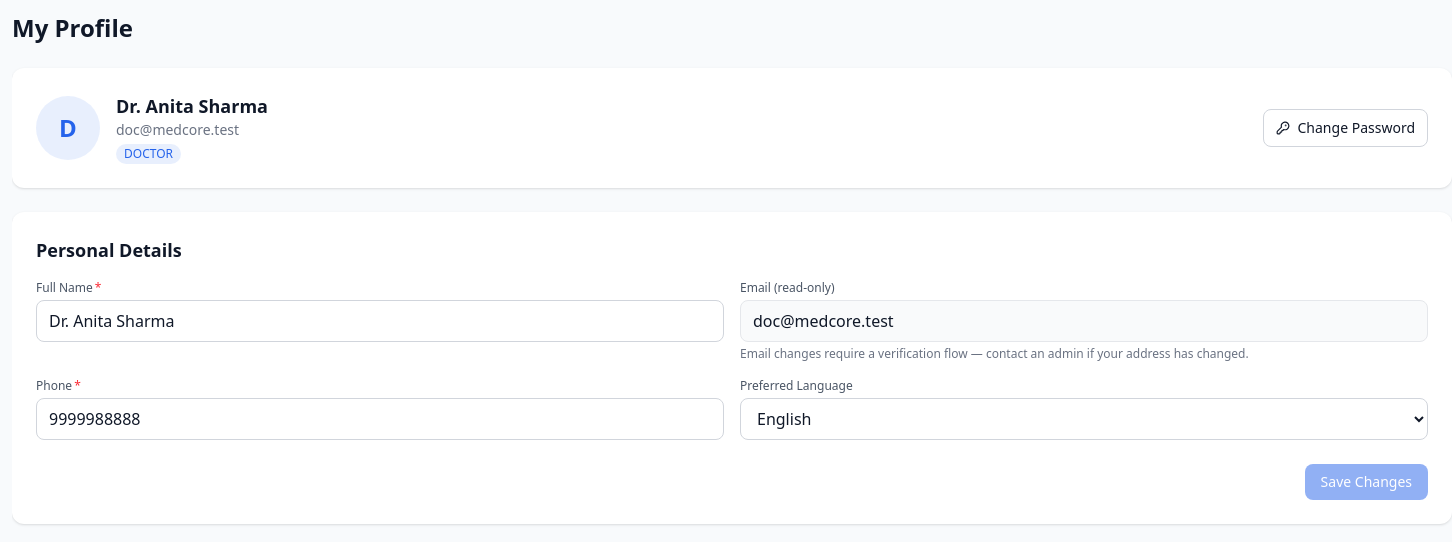
Test: ProfilePage — self-service /dashboard/profile (Issue #303) › enables Save once the form is dirty, then disables it again when the user reverts the change
Expected: the button with test id "profile-save-btn" is disabled, [1305,464,1428,500]
Replace the text in the field with test id "profile-name-input" with "Dr. Anita Sharma Edited" at {"x": 380, "y": 321}, box [36,300,724,342]
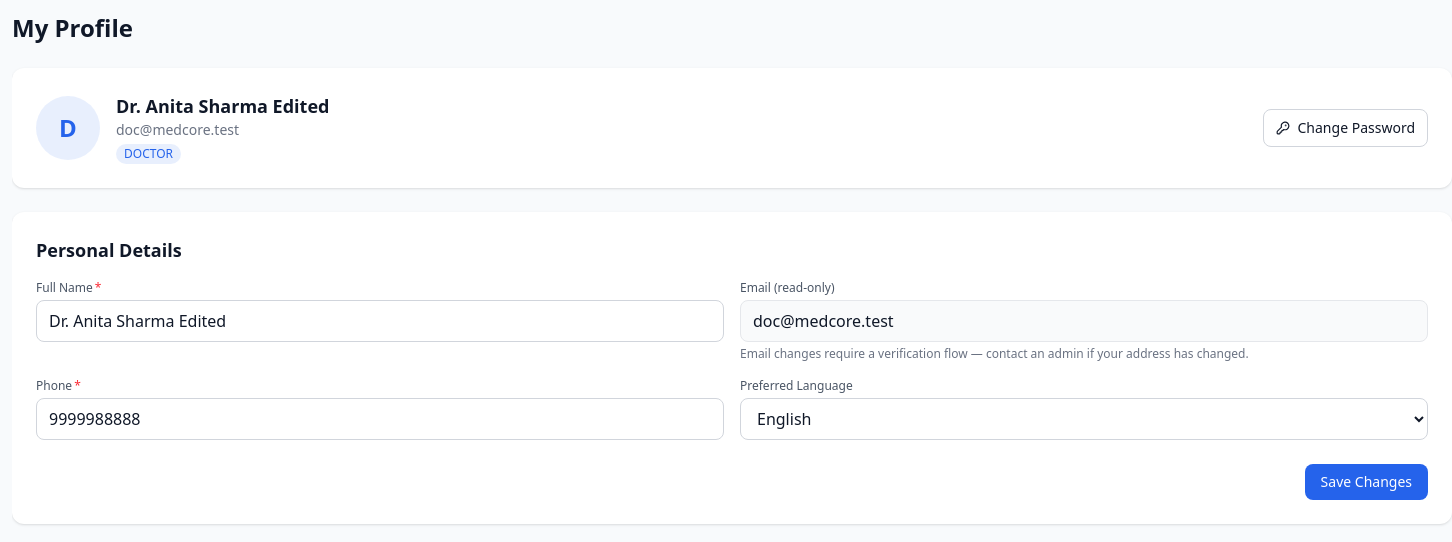
Expected: the button with test id "profile-save-btn" is enabled, [1305,464,1428,500]
Replace the text in the field with test id "profile-name-input" with "Dr. Anita Sharma" at {"x": 380, "y": 321}, box [36,300,724,342]
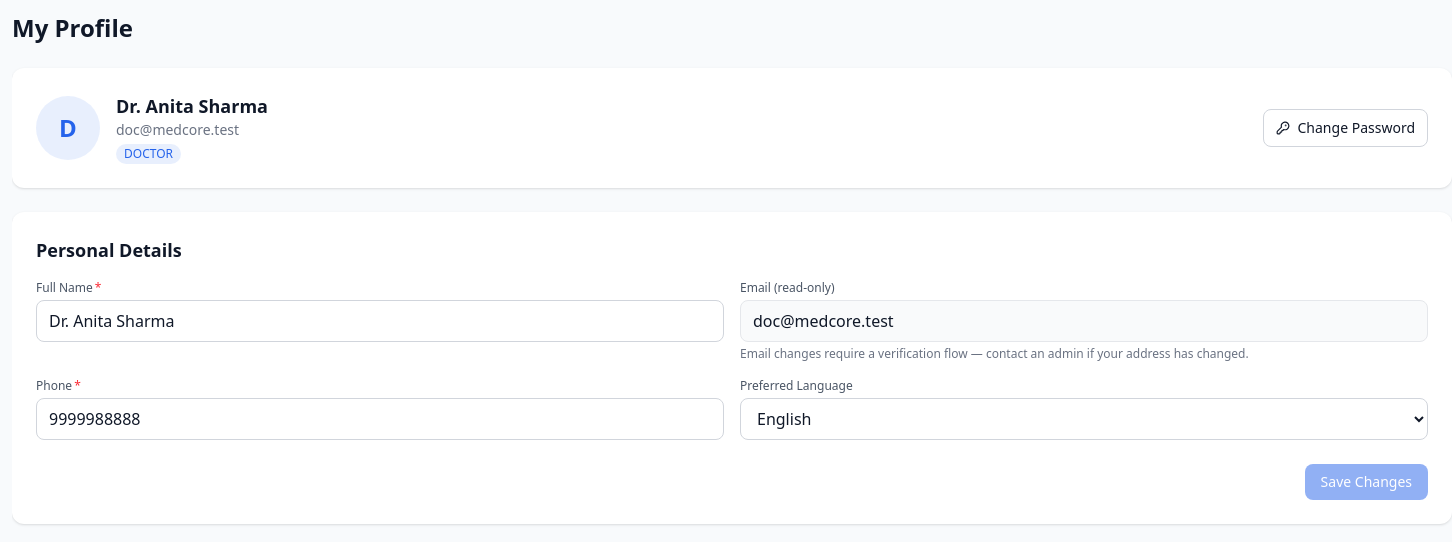
Expected: the button with test id "profile-save-btn" is disabled, [1305,464,1428,500]
